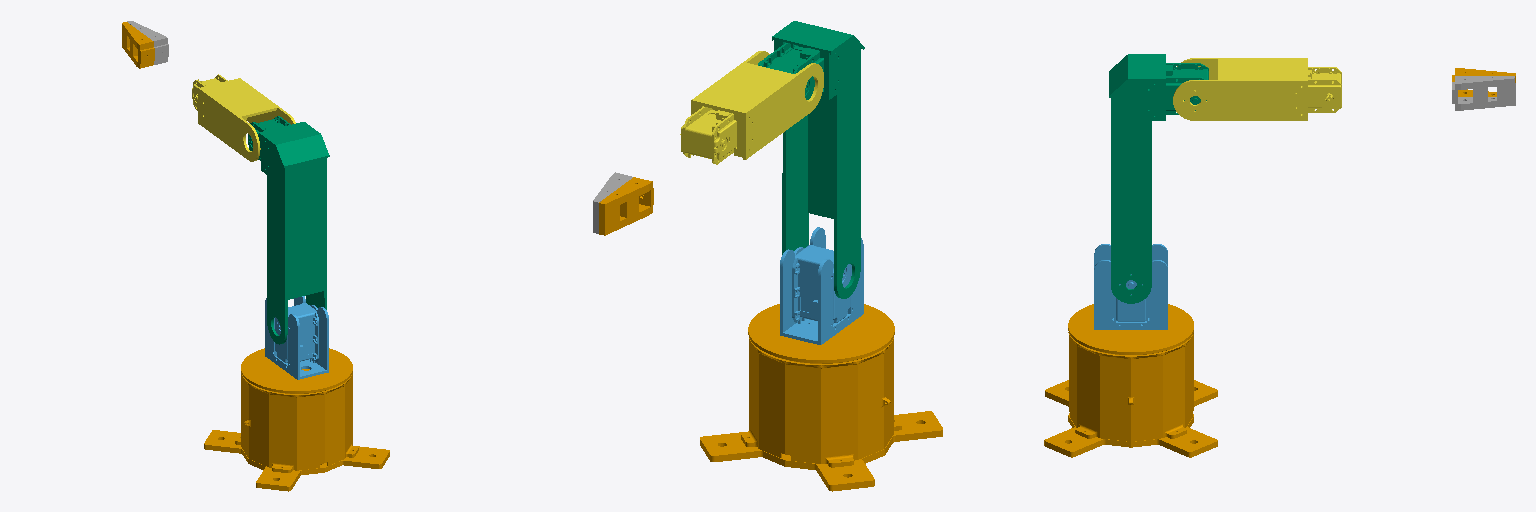
robot.urdf — omnibot_robot:
<?xml version="1.0" ?>
<!-- =================================================================================== -->
<!-- |    This document was autogenerated by xacro from omnibot_robot.urdf.xacro       | -->
<!-- |    EDITING THIS FILE BY HAND IS NOT RECOMMENDED                                 | -->
<!-- =================================================================================== -->
<robot name="omnibot_robot">
  <gazebo>
    <plugin filename="libgazebo_ros_control.so" name="gazebo_ros_control">
      <!-- <robotNamespace>/omnibot_robot</robotNamespace> -->
      <robotSimType>gazebo_ros_control/DefaultRobotHWSim</robotSimType>
    </plugin>
  </gazebo>
  <!-- transmission -->
  <transmission name="ang_tran1">
    <type>transmission_interface/SimpleTransmission</type>
    <joint name="ang_joint1">
      <hardwareInterface>hardware_interface/EffortJointInterface</hardwareInterface>
    </joint>
    <actuator name="ang_motor1">
      <hardwareInterface>hardware_interface/EffortJointInterface</hardwareInterface>
      <mechanicalReduction>1</mechanicalReduction>
    </actuator>
  </transmission>
  <transmission name="ang_tran2">
    <type>transmission_interface/SimpleTransmission</type>
    <joint name="ang_joint2">
      <hardwareInterface>hardware_interface/EffortJointInterface</hardwareInterface>
    </joint>
    <actuator name="ang_motor2">
      <hardwareInterface>hardware_interface/EffortJointInterfacee</hardwareInterface>
      <mechanicalReduction>1</mechanicalReduction>
    </actuator>
  </transmission>
  <transmission name="ang_tran3">
    <type>transmission_interface/SimpleTransmission</type>
    <joint name="ang_joint3">
      <hardwareInterface>hardware_interface/EffortJointInterface</hardwareInterface>
    </joint>
    <actuator name="ang_motor3">
      <hardwareInterface>hardware_interface/EffortJointInterfacee</hardwareInterface>
      <mechanicalReduction>1</mechanicalReduction>
    </actuator>
  </transmission>
  <transmission name="ang_tran4">
    <type>transmission_interface/SimpleTransmission</type>
    <joint name="ang_joint4">
      <hardwareInterface>hardware_interface/EffortJointInterface</hardwareInterface>
    </joint>
    <actuator name="ang_motor4">
      <hardwareInterface>hardware_interface/EffortJointInterfacee</hardwareInterface>
      <mechanicalReduction>1</mechanicalReduction>
    </actuator>
  </transmission>
  <transmission name="ang_tran5">
    <type>transmission_interface/SimpleTransmission</type>
    <joint name="ang_joint5">
      <hardwareInterface>hardware_interface/EffortJointInterface</hardwareInterface>
    </joint>
    <actuator name="ang_motor5">
      <hardwareInterface>hardware_interface/EffortJointInterfacee</hardwareInterface>
      <mechanicalReduction>1</mechanicalReduction>
    </actuator>
  </transmission>
  <transmission name="ang_tran5">
    <type>transmission_interface/SimpleTransmission</type>
    <joint name="ang_gripper">
      <hardwareInterface>hardware_interface/EffortJointInterface</hardwareInterface>
    </joint>
    <actuator name="ang_motor5">
      <hardwareInterface>hardware_interface/EffortJointInterfacee</hardwareInterface>
      <mechanicalReduction>1</mechanicalReduction>
    </actuator>
  </transmission>
  <transmission name="ang_tran5">
    <type>transmission_interface/SimpleTransmission</type>
    <joint name="ang_gripper_sub">
      <hardwareInterface>hardware_interface/EffortJointInterface</hardwareInterface>
    </joint>
    <actuator name="ang_motor5">
      <hardwareInterface>hardware_interface/EffortJointInterfacee</hardwareInterface>
      <mechanicalReduction>1</mechanicalReduction>
    </actuator>
  </transmission>
  <gazebo reference="ang_link0">
    <material>Gazebo/Gray</material>
  </gazebo>
  <gazebo reference="ang_link1">
    <material>Gazebo/Gray</material>
  </gazebo>
  <gazebo reference="ang_link2">
    <material>Gazebo/Gray</material>
  </gazebo>
  <gazebo reference="ang_link3">
    <material>Gazebo/Gray</material>
  </gazebo>
  <gazebo reference="ang_link4">
    <material>Gazebo/Gray</material>
  </gazebo>
  <gazebo reference="ang_link5">
    <material>Gazebo/Gray</material>
  </gazebo>
  <gazebo reference="ang_link7">
    <material>Gazebo/Orange</material>
    <kp>10000.0</kp>
    <kd>10000.0</kd>
    <mu1>1000.0</mu1>
    <mu2>1000.0</mu2>
    <minDepth>0.001</minDepth>
    <maxVel>0</maxVel>
  </gazebo>
  <gazebo reference="ang_link6">
    <kp>10000.0</kp>
    <kd>10000.0</kd>
    <mu1>1000.0</mu1>
    <mu2>1000.0</mu2>
    <minDepth>0.001</minDepth>
    <maxVel>0</maxVel>
    <material>Gazebo/Orange</material>
  </gazebo>
  <link name="ang_link0">
    <visual>
      <geometry>
        <mesh filename="package://omnibot_manipulator/meshes/link1.dae" scale="0.001 0.001 0.001"/>
      </geometry>
    </visual>
    <collision>
      <geometry>
        <mesh filename="package://omnibot_manipulator/meshes/link1.dae" scale="0.001 0.001 0.001"/>
      </geometry>
    </collision>
    <inertial>
      <origin rpy="0 0 0" xyz="0 0 0.5"/>
      <mass value="1"/>
      <inertia ixx="0.01" ixy="0.0" ixz="0.0" iyy="0.01" iyz="0.0" izz="0.01"/>
    </inertial>
  </link>
  <joint name="ang_joint1" type="continuous">
    <parent link="ang_link0"/>
    <child link="ang_link1"/>
    <origin rpy="1.57 0 -1.57" xyz="0 0 0.107"/>
    <axis xyz="0 1 0"/>
    <dynamics damping="0.99"/>
    <limit effort="5.0" velocity="5.0"/>
  </joint>
  <link name="ang_link1">
    <visual>
      <geometry>
        <mesh filename="package://omnibot_manipulator/meshes/link2.dae" scale="0.001 0.001 0.001"/>
      </geometry>
    </visual>
    <collision>
      <geometry>
        <mesh filename="package://omnibot_manipulator/meshes/link2.dae" scale="0.001 0.001 0.001"/>
      </geometry>
    </collision>
    <inertial>
      <origin rpy="0 0 0" xyz="0 0.25 0"/>
      <mass value="0.001"/>
      <inertia ixx="0.01" ixy="0.0" ixz="0.0" iyy="0.01" iyz="0.0" izz="0.01"/>
    </inertial>
  </link>
  <joint name="ang_joint2" type="revolute">
    <parent link="ang_link1"/>
    <child link="ang_link2"/>
    <origin rpy="0 0 0" xyz="0 0.0518 0"/>
    <axis xyz="0 0 1"/>
    <dynamics damping="0.99"/>
    <limit effort="5.0" lower="-1.57" upper="1.57" velocity="5.0"/>
  </joint>
  <link name="ang_link2">
    <visual>
      <geometry>
        <mesh filename="package://omnibot_manipulator/meshes/link3.dae" scale="0.001 0.001 0.001"/>
      </geometry>
    </visual>
    <collision>
      <geometry>
        <mesh filename="package://omnibot_manipulator/meshes/link3.dae" scale="0.001 0.001 0.001"/>
      </geometry>
    </collision>
    <inertial>
      <origin rpy="0 0 0" xyz="0 0.15 0"/>
      <mass value="0.001"/>
      <inertia ixx="0.01" ixy="0.0" ixz="0.0" iyy="0.01" iyz="0.0" izz="0.01"/>
    </inertial>
  </link>
  <joint name="ang_joint3" type="revolute">
    <parent link="ang_link2"/>
    <child link="ang_link3"/>
    <origin rpy="0 0 0" xyz="0.0626 0.1989 0"/>
    <axis xyz="0 0 1"/>
    <dynamics damping="0.99"/>
    <limit effort="5.0" lower="-1.57" upper="1.57" velocity="5.0"/>
  </joint>
  <link name="ang_link3">
    <visual>
      <geometry>
        <mesh filename="package://omnibot_manipulator/meshes/link4.dae" scale="0.001 0.001 0.001"/>
      </geometry>
    </visual>
    <collision>
      <geometry>
        <mesh filename="package://omnibot_manipulator/meshes/link4.dae" scale="0.001 0.001 0.001"/>
      </geometry>
    </collision>
    <inertial>
      <origin rpy="0 0 0" xyz="0 0 0"/>
      <mass value="0.001"/>
      <inertia ixx="0.01" ixy="0.0" ixz="0.0" iyy="0.01" iyz="0.0" izz="0.01"/>
    </inertial>
  </link>
  <joint name="ang_joint4" type="revolute">
    <parent link="ang_link3"/>
    <child link="ang_link4"/>
    <origin rpy="-1.57 0 1.57" xyz="0.13093 0 0"/>
    <axis xyz="0 -1 0"/>
    <dynamics damping="0.99"/>
    <limit effort="5.0" lower="-1.45" upper="1.45" velocity="5.0"/>
  </joint>
  <link name="ang_link4">
    <visual>
      <geometry>
        <mesh filename="package://omnibot_manipulator/meshes/link5.dae" scale="0.001 0.001 0.001"/>
      </geometry>
    </visual>
    <collision>
      <geometry>
        <mesh filename="package://omnibot_manipulator/meshes/link5.dae" scale="0.001 0.001 0.001"/>
      </geometry>
    </collision>
    <inertial>
      <origin rpy="0 0 0" xyz="0 0 0"/>
      <mass value="0.001"/>
      <inertia ixx="0.01" ixy="0.0" ixz="0.0" iyy="0.01" iyz="0.0" izz="0.01"/>
    </inertial>
  </link>
  <joint name="ang_joint5" type="continuous">
    <parent link="ang_link4"/>
    <child link="ang_link5"/>
    <origin rpy="0 0 0" xyz="0 0 -0.06174"/>
    <axis xyz="0 0 -1"/>
    <dynamics damping="0.99"/>
    <limit effort="5.0" lower="-1.57" upper="1.57" velocity="5.0"/>
  </joint>
  <link name="ang_link5">
    <visual>
      <geometry>
        <mesh filename="package://omnibot_manipulator/meshes/link6.dae" scale="0.001 0.001 0.001"/>
      </geometry>
    </visual>
    <collision>
      <geometry>
        <mesh filename="package://omnibot_manipulator/meshes/link6.dae" scale="0.001 0.001 0.001"/>
      </geometry>
    </collision>
    <inertial>
      <origin rpy="0 0 0" xyz="0 0 0"/>
      <mass value="0.001"/>
      <inertia ixx="0.01" ixy="0.0" ixz="0.0" iyy="0.01" iyz="0.0" izz="0.01"/>
    </inertial>
  </link>
  <link name="tip_link">
    <inertial>
      <origin rpy="0 0 0" xyz="0 0.0 0"/>
      <mass value="0.00002"/>
      <inertia ixx="0.01" ixy="0.0" ixz="0.0" iyy="0.01" iyz="0.0" izz="0.01"/>
    </inertial>
  </link>
  <joint name="tip_joint" type="fixed">
    <origin rpy="0.0 0.0 0.0" xyz="0.0 0.0 -0.1"/>
    <parent link="ang_link5"/>
    <child link="tip_link"/>
    <axis xyz="0.0 0.0 0.0"/>
    <limit effort="0.0" lower="0.0" upper="0.0" velocity="0.0"/>
  </joint>
  <joint name="ang_gripper" type="prismatic">
    <parent link="tip_link"/>
    <child link="ang_link6"/>
    <origin rpy="1.57 3.14 0" xyz="0.0 0.0 0.0285"/>
    <axis xyz="0 0 1"/>
    <limit effort="3" lower="0" upper="0.025" velocity="0.05"/>
    <dynamics damping="0.99"/>
  </joint>
  <link name="ang_link6">
    <collision>
      <geometry>
        <mesh filename="package://omnibot_manipulator/meshes/link7.dae" scale="0.001 0.001 0.001"/>
      </geometry>
    </collision>
    <visual>
      <geometry>
        <mesh filename="package://omnibot_manipulator/meshes/link7.dae" scale="0.001 0.001 0.001"/>
      </geometry>
    </visual>
    <inertial>
      <origin rpy="0 0 0" xyz="0 0 0"/>
      <mass value="0.001"/>
      <inertia ixx="0.01" ixy="0.0" ixz="0.0" iyy="0.01" iyz="0.0" izz="0.01"/>
    </inertial>
  </link>
  <joint name="ang_gripper_sub" type="prismatic">
    <parent link="tip_link"/>
    <child link="ang_link7"/>
    <origin rpy="-1.57 0 0" xyz="0.0 0.0 0.0285"/>
    <axis xyz="0 0 1"/>
    <limit effort="3" lower="0" upper="0.025" velocity="0.05"/>
    <mimic joint="ang_gripper" multiplier="1" offset="0"/>
    <dynamics damping="0.99"/>
  </joint>
  <link name="ang_link7">
    <collision>
      <geometry>
        <mesh filename="package://omnibot_manipulator/meshes/link7.dae" scale="0.001 0.001 0.001"/>
      </geometry>
    </collision>
    <visual>
      <geometry>
        <mesh filename="package://omnibot_manipulator/meshes/link7.dae" scale="0.001 0.001 0.001"/>
      </geometry>
    </visual>
    <inertial>
      <origin rpy="0 0 0" xyz="0 0 0"/>
      <mass value="0.001"/>
      <inertia ixx="0.01" ixy="0.0" ixz="0.0" iyy="0.01" iyz="0.0" izz="0.01"/>
    </inertial>
  </link>
  <link name="base_link">
    <visual name="">
      <origin rpy="0.0 3.14 0.0" xyz="0.0 0.0 0.0"/>
      <geometry>
        <mesh filename="package://omnibot_platform/meshes/hodovaya_low.dae" scale="0.001 0.001 0.001"/>
      </geometry>
      <material name="">
        <color rgba="1.0 0.0 0.5 1.0"/>
        <texture filename=""/>
      </material>
    </visual>
    <collision>
      <origin rpy="0.0 3.14 0.0" xyz="0.0 0.0 0.0"/>
      <geometry>
        <mesh filename="package://omnibot_platform/meshes/hodovaya_low.dae" scale="0.001 0.001 0.001"/>
      </geometry>
    </collision>
    <inertial>
      <origin rpy="0 0 0" xyz="0 0.0 0"/>
      <mass value="3.0"/>
      <inertia ixx="1.0" ixy="1.0" ixz="1.0" iyy="0.01" iyz="0.0" izz="0.01"/>
    </inertial>
  </link>
  <link name="left_forward_wheel_link">
    <visual name="">
      <origin rpy="0.0 0.0 0.0" xyz="0.0 0.0 0.0"/>
      <geometry>
        <mesh filename="package://omnibot_platform/meshes/wheel_low.dae" scale="0.001 0.001 0.001"/>
      </geometry>
      <material name="">
        <color rgba="1.0 0.0 0.0 1.0"/>
        <texture filename=""/>
      </material>
    </visual>
    <collision>
      <origin rpy="0.0 0.0 0.0" xyz="0.0 0.0 0.0"/>
      <geometry>
        <mesh filename="package://omnibot_platform/meshes/wheel_low.dae" scale="0.001 0.001 0.001"/>
      </geometry>
    </collision>
    <inertial>
      <origin rpy="0 0 0" xyz="0 0.0 0"/>
      <mass value="0.2"/>
      <inertia ixx="0.01" ixy="0.0" ixz="0.0" iyy="0.01" iyz="0.0" izz="0.01"/>
    </inertial>
  </link>
  <joint name="left_forward_wheel_joint" type="continuous">
    <origin rpy="0.0 0.0 1.57" xyz="-0.15255 0.168 0.013285"/>
    <parent link="base_link"/>
    <child link="left_forward_wheel_link"/>
    <axis xyz="0.0 1.0 0.0"/>
    <limit effort="0.0" velocity="0.0"/>
  </joint>
  <transmission name="left_forward_wheel_transmission" type="SimpleTransmission">
    <type>transmission_interface/SimpleTransmission</type>
    <actuator name="left_forward_wheel_motor">
      <hardwareInterface>hardware_interface/VelocityJointInterface </hardwareInterface>
      <mechanicalReduction>1</mechanicalReduction>
    </actuator>
    <joint name="left_forward_wheel_joint">
      <hardwareInterface>hardware_interface/VelocityJointInterface</hardwareInterface>
    </joint>
  </transmission>
  <link name="right_forward_wheel_link">
    <visual name="">
      <origin rpy="0.0 0.0 0.0" xyz="0.0 0.0 0.0"/>
      <geometry>
        <mesh filename="package://omnibot_platform/meshes/wheel_low.dae" scale="0.001 0.001 0.001"/>
      </geometry>
      <material name="">
        <color rgba="1.0 0.0 0.0 1.0"/>
        <texture filename=""/>
      </material>
    </visual>
    <collision>
      <origin rpy="0.0 0.0 0.0" xyz="0.0 0.0 0.0"/>
      <geometry>
        <mesh filename="package://omnibot_platform/meshes/wheel_low.dae" scale="0.001 0.001 0.001"/>
      </geometry>
    </collision>
    <inertial>
      <origin rpy="0 0 0" xyz="0 0.0 0"/>
      <mass value="0.2"/>
      <inertia ixx="0.01" ixy="0.0" ixz="0.0" iyy="0.01" iyz="0.0" izz="0.01"/>
    </inertial>
  </link>
  <joint name="right_forward_wheel_joint" type="continuous">
    <origin rpy="0.0 0.0 -1.57" xyz="0.15255 0.168 0.013285"/>
    <parent link="base_link"/>
    <child link="right_forward_wheel_link"/>
    <axis xyz="0.0 1.0 0.0"/>
    <limit effort="0.0" velocity="0.0"/>
  </joint>
  <transmission name="right_forward_wheel_transmission" type="SimpleTransmission">
    <type>transmission_interface/SimpleTransmission</type>
    <actuator name="right_forward_wheel_motor">
      <hardwareInterface>hardware_interface/VelocityJointInterface </hardwareInterface>
      <mechanicalReduction>1</mechanicalReduction>
    </actuator>
    <joint name="right_forward_wheel_joint">
      <hardwareInterface>hardware_interface/VelocityJointInterface</hardwareInterface>
    </joint>
  </transmission>
  <link name="left_backward_wheel_link">
    <visual name="">
      <origin rpy="0.0 0.0 0.0" xyz="0.0 0.0 0.0"/>
      <geometry>
        <mesh filename="package://omnibot_platform/meshes/wheel_low.dae" scale="0.001 0.001 0.001"/>
      </geometry>
      <material name="">
        <color rgba="1.0 0.0 0.0 1.0"/>
        <texture filename=""/>
      </material>
    </visual>
    <collision>
      <origin rpy="0.0 0.0 0.0" xyz="0.0 0.0 0.0"/>
      <geometry>
        <mesh filename="package://omnibot_platform/meshes/wheel_low.dae" scale="0.001 0.001 0.001"/>
      </geometry>
    </collision>
    <inertial>
      <origin rpy="0 0 0" xyz="0 0.0 0"/>
      <mass value="0.2"/>
      <inertia ixx="0.01" ixy="0.0" ixz="0.0" iyy="0.01" iyz="0.0" izz="0.01"/>
    </inertial>
  </link>
  <joint name="left_backward_wheel_joint" type="continuous">
    <origin rpy="0.0 0.0  1.57" xyz="-0.15255 -0.168 0.013285"/>
    <parent link="base_link"/>
    <child link="left_backward_wheel_link"/>
    <axis xyz="0.0 1.0 0.0"/>
    <limit effort="0.0" velocity="0.0"/>
  </joint>
  <transmission name="left_backward_wheel_transmission" type="SimpleTransmission">
    <type>transmission_interface/SimpleTransmission</type>
    <actuator name="left_backward_wheel_motor">
      <hardwareInterface>hardware_interface/VelocityJointInterface </hardwareInterface>
      <mechanicalReduction>1</mechanicalReduction>
    </actuator>
    <joint name="left_backward_wheel_joint">
      <hardwareInterface>hardware_interface/VelocityJointInterface</hardwareInterface>
    </joint>
  </transmission>
  <link name="right_backward_wheel_link">
    <visual name="">
      <origin rpy="0.0 0.0 0.0" xyz="0.0 0.0 0.0"/>
      <geometry>
        <mesh filename="package://omnibot_platform/meshes/wheel_low.dae" scale="0.001 0.001 0.001"/>
      </geometry>
      <material name="">
        <color rgba="1.0 0.0 0.0 1.0"/>
        <texture filename=""/>
      </material>
    </visual>
    <collision>
      <origin rpy="0.0 0.0 0.0" xyz="0.0 0.0 0.0"/>
      <geometry>
        <mesh filename="package://omnibot_platform/meshes/wheel_low.dae" scale="0.001 0.001 0.001"/>
      </geometry>
    </collision>
    <inertial>
      <origin rpy="0 0 0" xyz="0 0.0 0"/>
      <mass value="0.2"/>
      <inertia ixx="0.01" ixy="0.0" ixz="0.0" iyy="0.01" iyz="0.0" izz="0.01"/>
    </inertial>
  </link>
  <joint name="right_backward_wheel_joint" type="continuous">
    <origin rpy="0.0 0.0  -1.57" xyz="0.15255 -0.168 0.013285"/>
    <parent link="base_link"/>
    <child link="right_backward_wheel_link"/>
    <axis xyz="0.0 1.0 0.0"/>
    <limit effort="0.0" velocity="0.0"/>
  </joint>
  <transmission name="right_backward_wheel_transmission" type="SimpleTransmission">
    <type>transmission_interface/SimpleTransmission</type>
    <actuator name="right_backward_wheel_motor">
      <hardwareInterface>hardware_interface/VelocityJointInterface </hardwareInterface>
      <mechanicalReduction>1</mechanicalReduction>
    </actuator>
    <joint name="right_backward_wheel_joint">
      <hardwareInterface>hardware_interface/VelocityJointInterface</hardwareInterface>
    </joint>
  </transmission>
  <joint name="manip2platform_connector" type="fixed">
    <parent link="base_link"/>
    <child link="ang_link0"/>
    <origin rpy="0.0 0.0 3.14" xyz="0.0 0.096 0.113"/>
  </joint>
</robot>

--- Render facts (derived) ---
The picture shows the robot from 3 angles, left to right: view 1: azimuth 30°, elevation 25°; view 2: azimuth 150°, elevation 25°; view 3: azimuth 270°, elevation 25°; orthographic projection.
Model omnibot_robot with 14 links and 13 joints (3 revolute, 6 continuous, 2 prismatic, 2 fixed), rooted at base_link, posed all joints at 0.
Visible links, largest first — view 1: ang_link0, ang_link2, ang_link3, ang_link1, ang_link7, ang_link6; view 2: ang_link0, ang_link2, ang_link3, ang_link1, ang_link7, ang_link6; view 3: ang_link0, ang_link2, ang_link3, ang_link1, ang_link6.
Link boxes in pixels (x1,y1,x2,y2): ang_link0: [204, 348, 389, 491]; ang_link2: [248, 116, 329, 344]; ang_link3: [192, 74, 295, 161]; ang_link1: [265, 296, 328, 379]; ang_link7: [122, 22, 154, 68]; ang_link6: [127, 21, 168, 64]; ang_link0: [700, 304, 942, 491]; ang_link2: [758, 21, 864, 298]; ang_link3: [680, 51, 823, 164]; ang_link1: [780, 227, 863, 344]; ang_link7: [599, 177, 653, 235]; ang_link6: [593, 172, 632, 233]; ang_link0: [1044, 304, 1217, 457]; ang_link2: [1109, 54, 1208, 303]; ang_link3: [1173, 58, 1341, 120]; ang_link1: [1094, 244, 1167, 329]; ang_link6: [1452, 76, 1515, 110].
Bounding box of the posed robot: 0.1697 × 0.4604 × 0.3819 m (x, y, z).
6 mesh visuals loaded from 9 distinct referenced files (5 Collada DAE); not drawn: 7 (reference not matched to a file when rendering).